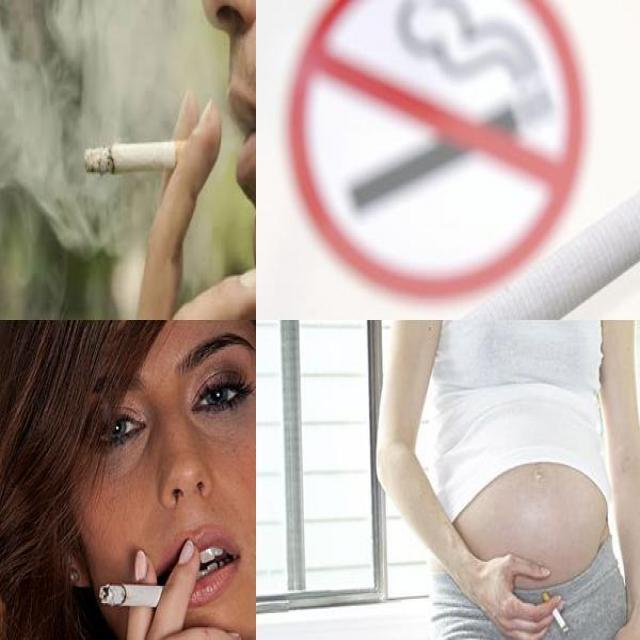cigarette: (417, 22, 639, 318), (84, 138, 208, 174), (98, 583, 186, 610), (538, 588, 570, 638)
